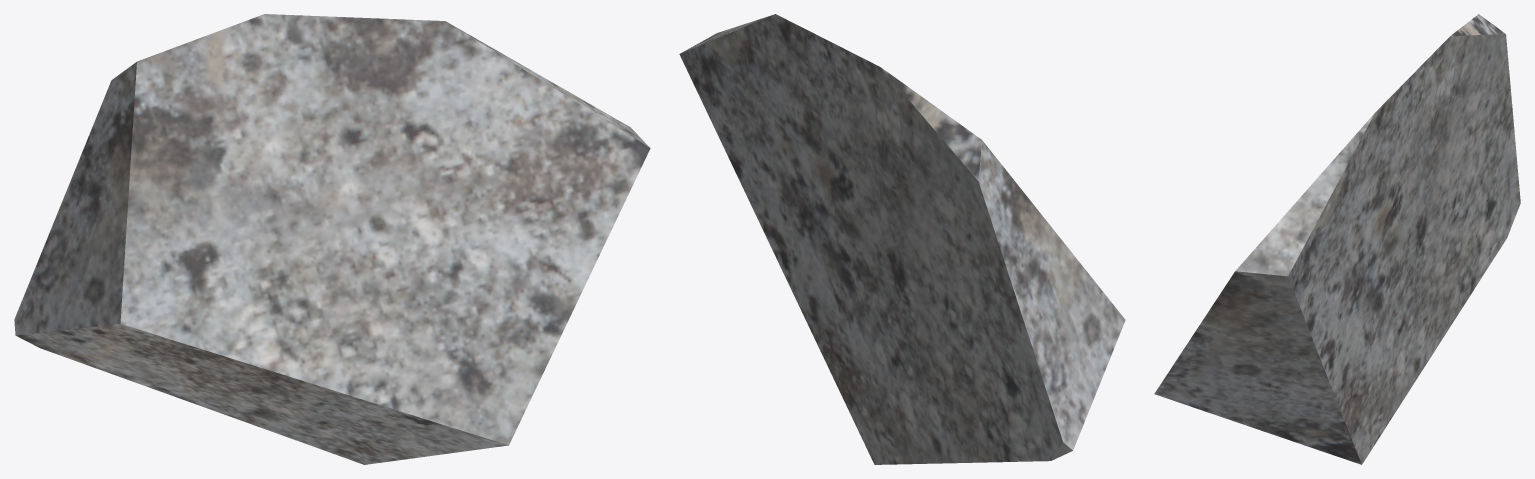
File: Asteroid_Large_001_02_009_03_037.fbx
The picture shows the model from 3 angles, left to right: view 1: azimuth 30°, elevation 25°; view 2: azimuth 150°, elevation 25°; view 3: azimuth 270°, elevation 25°; orthographic projection. The views are drawn at different scales.
Parts seen in each view (by area): view 1: Asteroid_Large_001_02_009_03_037; view 2: Asteroid_Large_001_02_009_03_037; view 3: Asteroid_Large_001_02_009_03_037.
Boxes of the visible parts, x1=… form: Asteroid_Large_001_02_009_03_037: x1=14, y1=14, x2=650, y2=464; Asteroid_Large_001_02_009_03_037: x1=679, y1=14, x2=1125, y2=464; Asteroid_Large_001_02_009_03_037: x1=1154, y1=14, x2=1520, y2=464.
Bounding box in the file's own units: 8.67 × 7.17 × 5.89.
